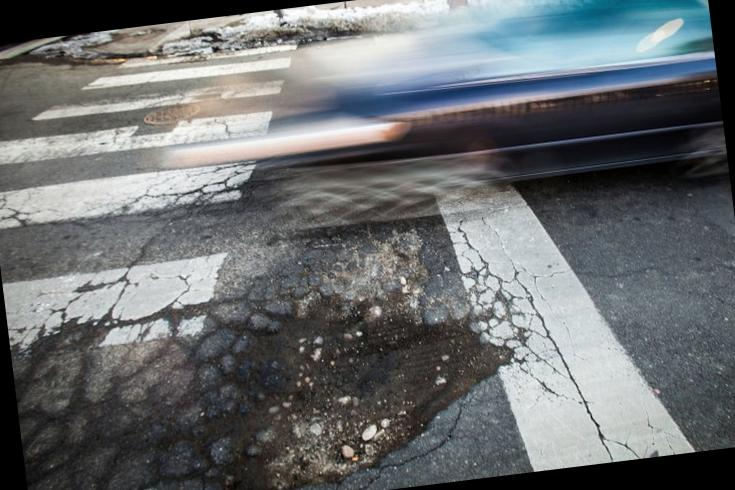pothole: (152, 244, 522, 490)
